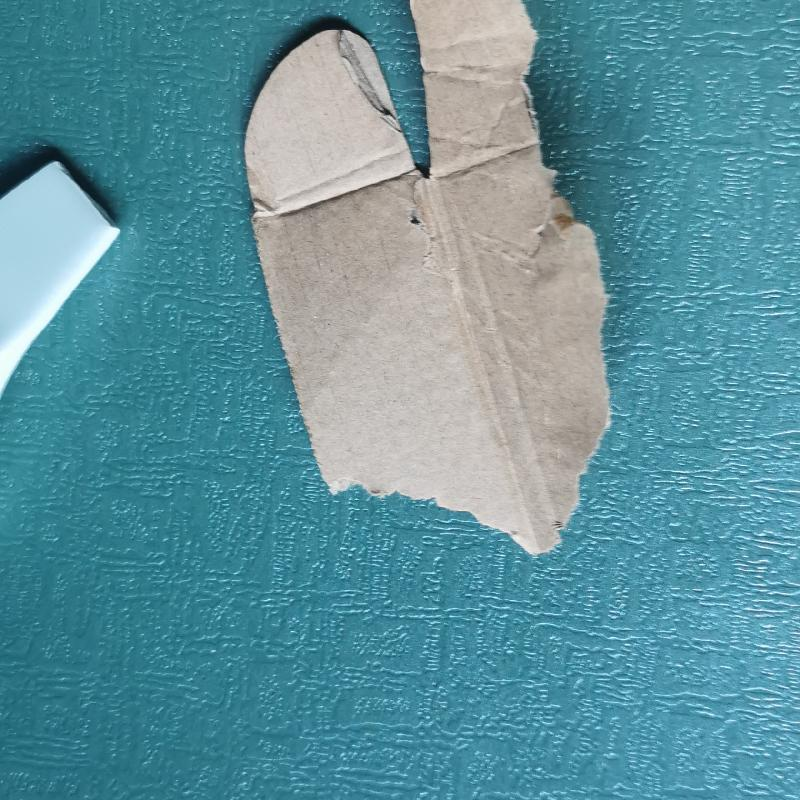boxes: (230, 6, 631, 562)
